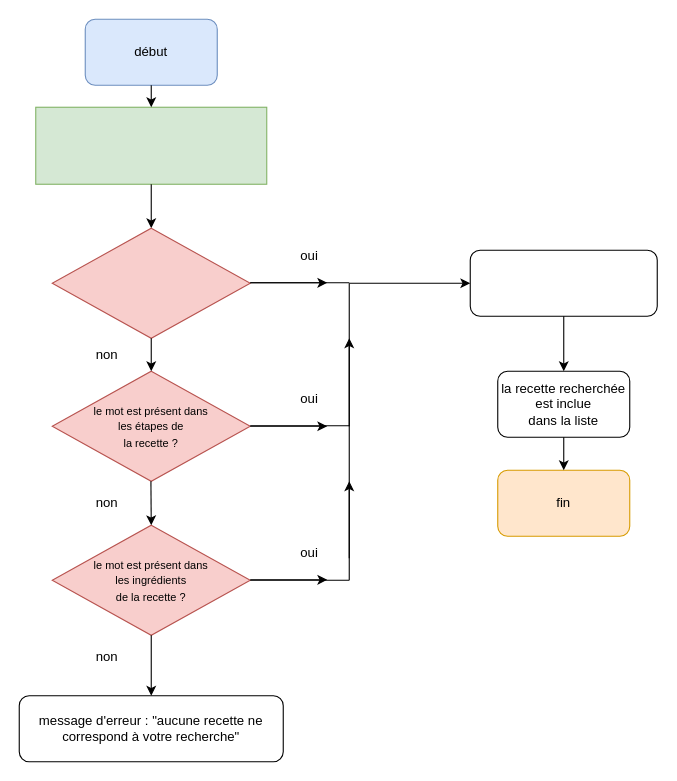
The diagram is 677 pixels wide and 781 high, and some of its shapes have lost their labels. Each missing label, with the box of its shape:
l'utilisateur tape dans la barre de recherche: (35, 106, 267, 184)
la liste des recettes correspondantes est affiché: (469, 249, 657, 316)
le mot est présent dans le nom d'une recette ?: (51, 227, 250, 338)
